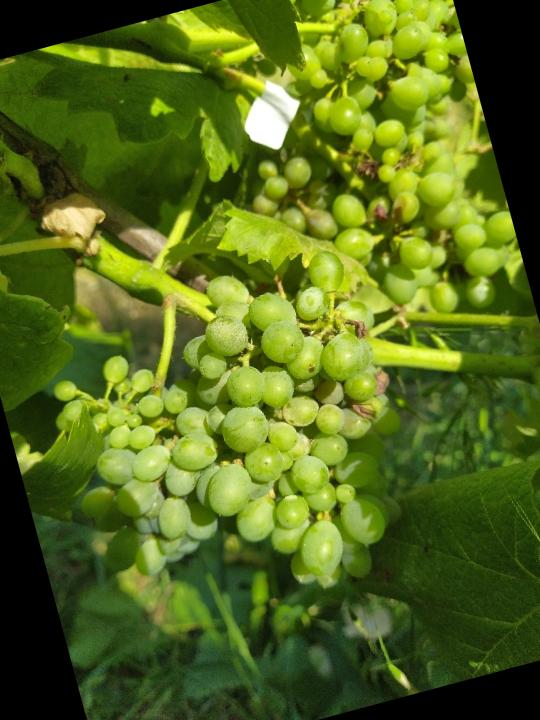grape: (20, 233, 452, 655)
